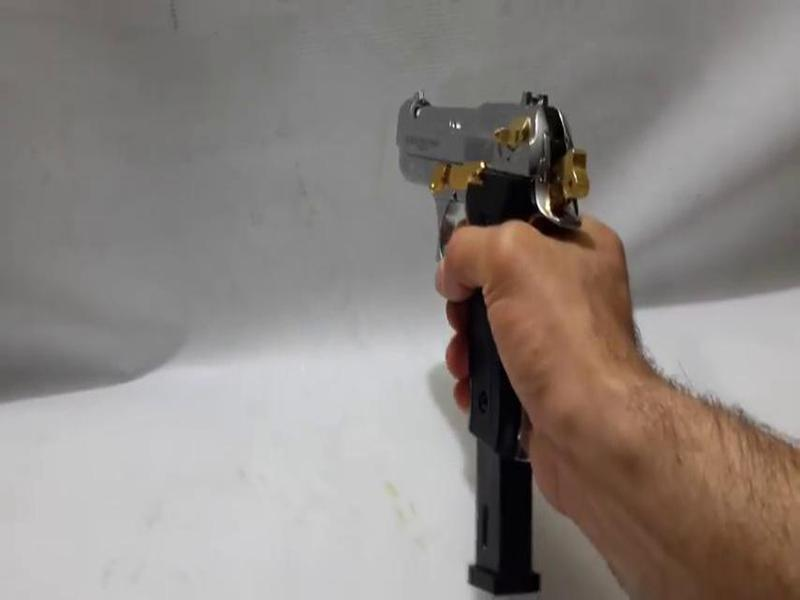Pistola: (356, 84, 598, 467)
